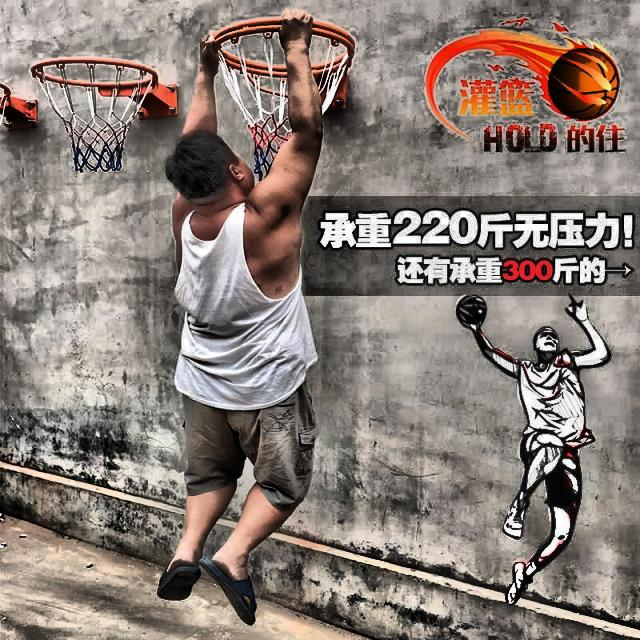rim: (30, 57, 157, 174)
